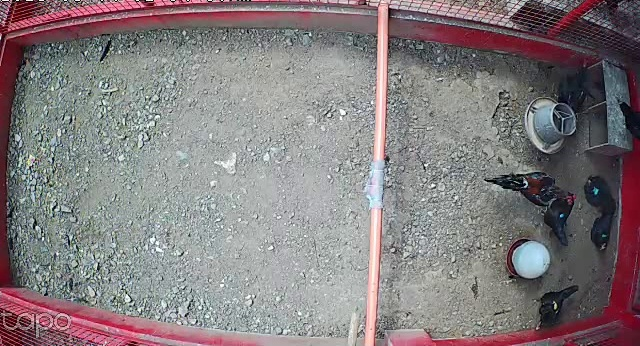Chicken: (530, 278, 582, 337), (553, 56, 595, 111), (538, 197, 576, 248), (584, 209, 616, 254), (583, 172, 619, 211)
Rooster: (483, 165, 580, 209)
Saddle_Color_Blue: (559, 214, 566, 220)
Saddle_Color_Yellow: (552, 300, 560, 312)
